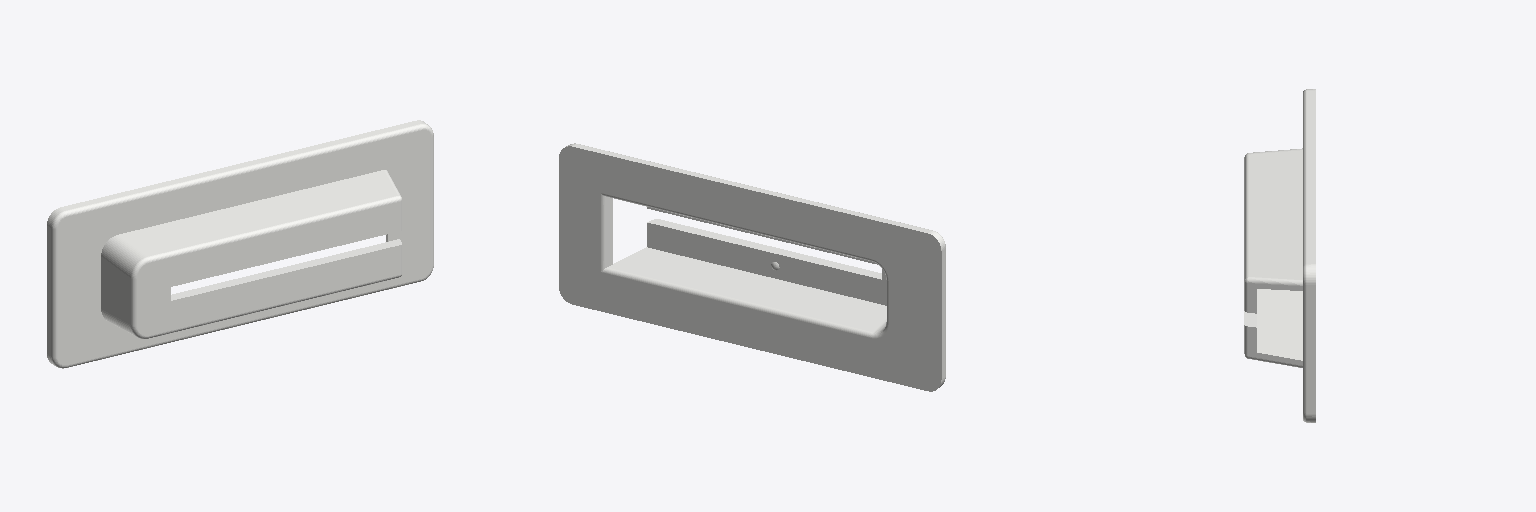
Rendered from Plastic_Part.obj.
The picture shows the model from 3 angles: view 1: azimuth 30°, elevation 25°; view 2: azimuth 150°, elevation 25°; view 3: azimuth 270°, elevation 25°; orthographic projection.
Visible parts, largest first — view 1: Body2; view 2: Body2; view 3: Body2.
Boxes of the visible parts, x1=… form: Body2: x1=47, y1=120, x2=433, y2=368; Body2: x1=559, y1=143, x2=945, y2=391; Body2: x1=1244, y1=89, x2=1315, y2=422.
Size of the model in its own units: 68.4 by 27 by 11.